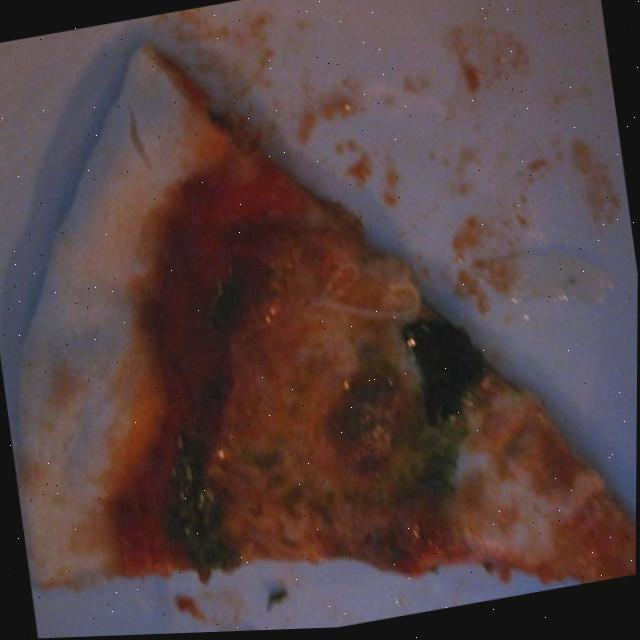汉堡快餐: (0, 2, 640, 640)
